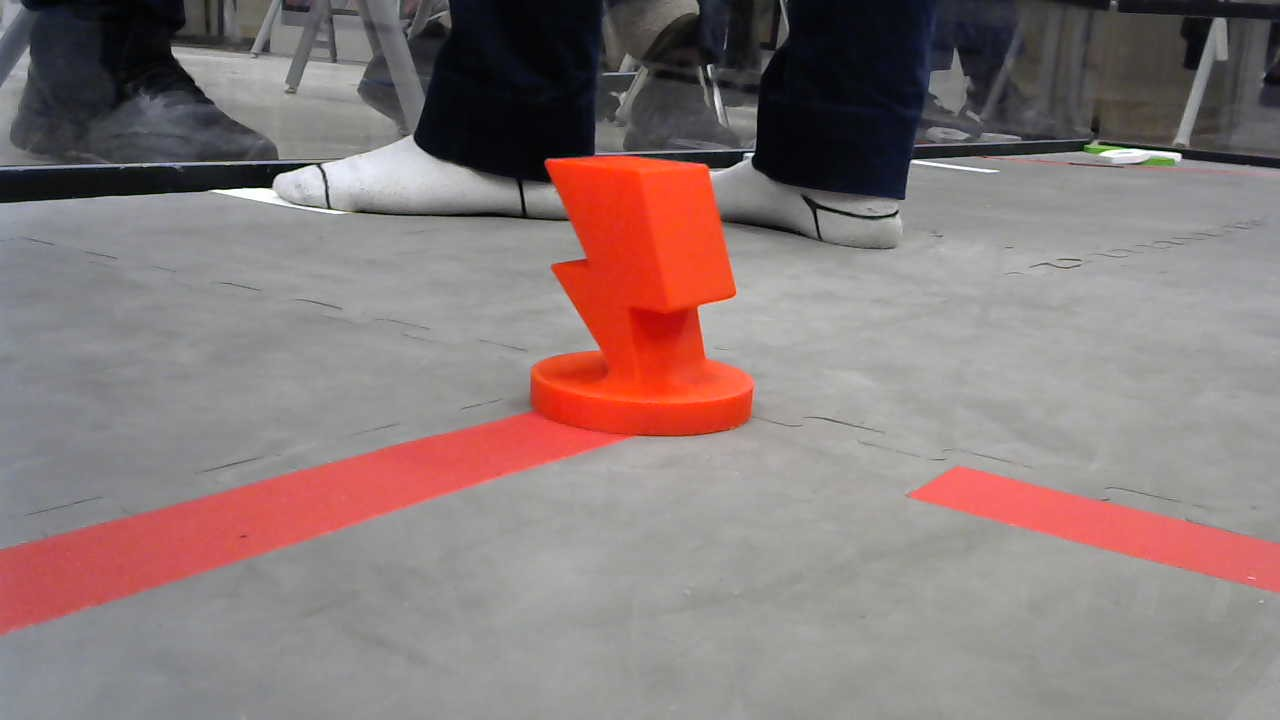redobject: (528, 155, 759, 435)
